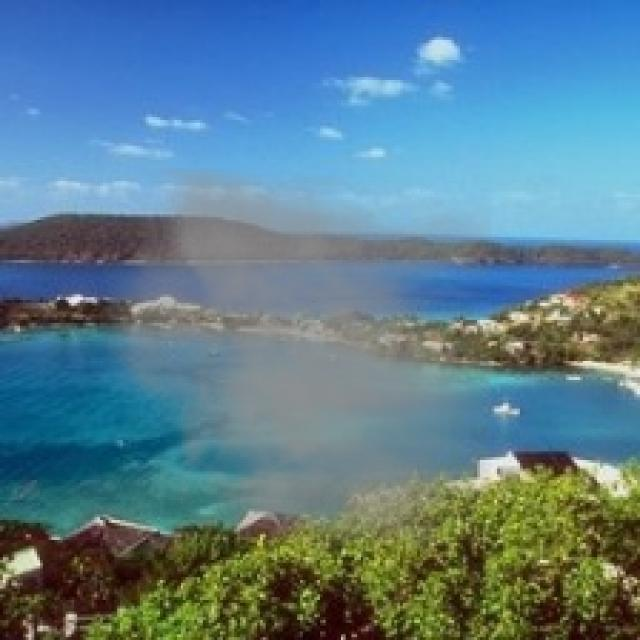Smoke: (89, 168, 492, 552)
